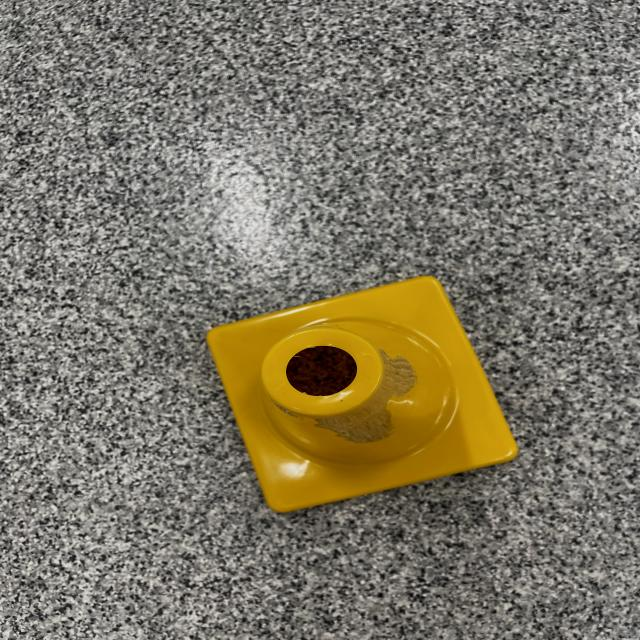frc_cone: (205, 270, 525, 516)
